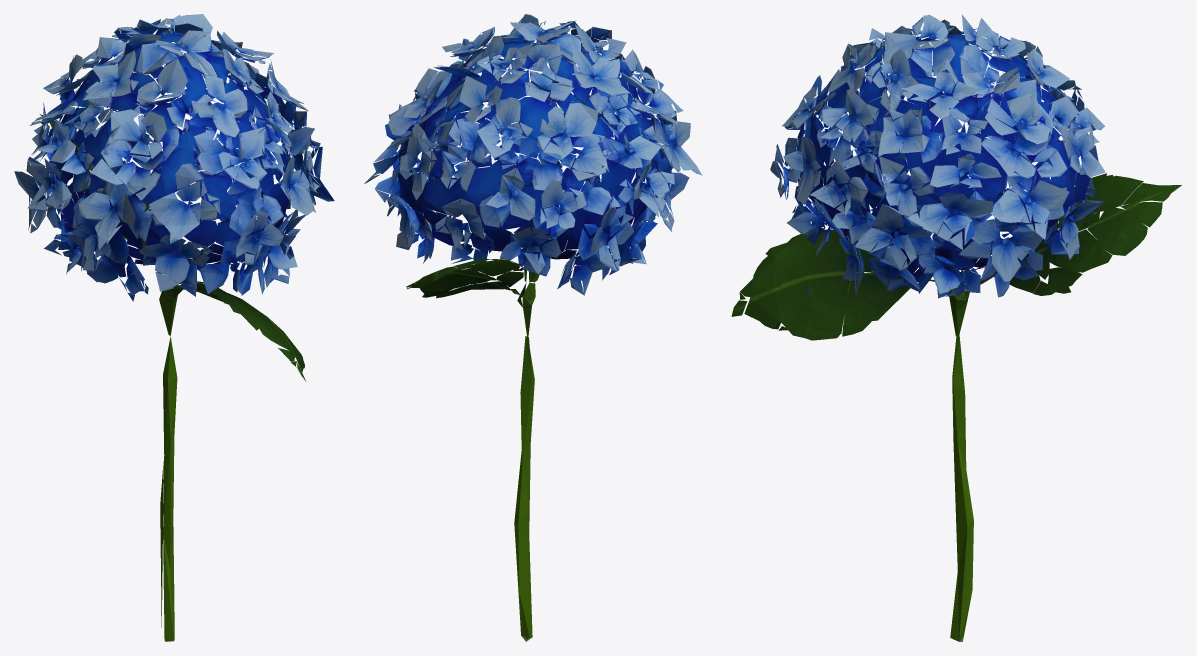
The model's file is flor_03_hortensia.glb.
The picture shows the model from 3 angles, left to right: view 1: azimuth 30°, elevation 25°; view 2: azimuth 150°, elevation 25°; view 3: azimuth 270°, elevation 25°; orthographic projection.
Visible parts, largest first — view 1: tripo_node_8cb1e8bb-a0f5-46f3-a05e-67910e2c5a8c; view 2: tripo_node_8cb1e8bb-a0f5-46f3-a05e-67910e2c5a8c; view 3: tripo_node_8cb1e8bb-a0f5-46f3-a05e-67910e2c5a8c.
Boxes of the visible parts, x1,y1,x2,y2 form: tripo_node_8cb1e8bb-a0f5-46f3-a05e-67910e2c5a8c: [14, 14, 334, 641]; tripo_node_8cb1e8bb-a0f5-46f3-a05e-67910e2c5a8c: [364, 14, 702, 641]; tripo_node_8cb1e8bb-a0f5-46f3-a05e-67910e2c5a8c: [731, 14, 1181, 641].
Bounding box in the file's own units: 0.4735 × 1 × 0.6638.
Materials: 1 (1 with a texture image).
